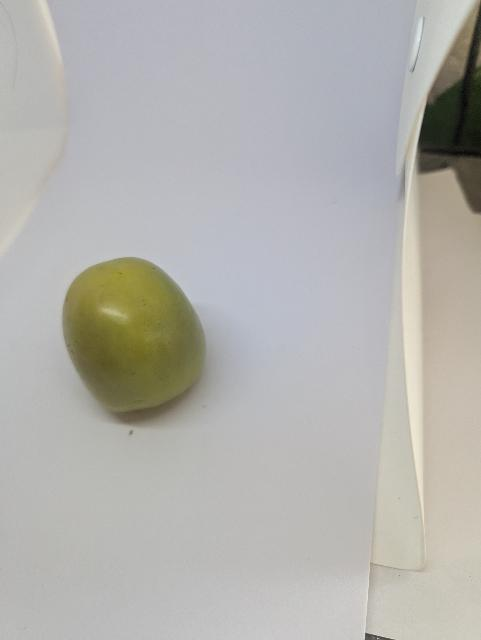green: (47, 242, 223, 428)
